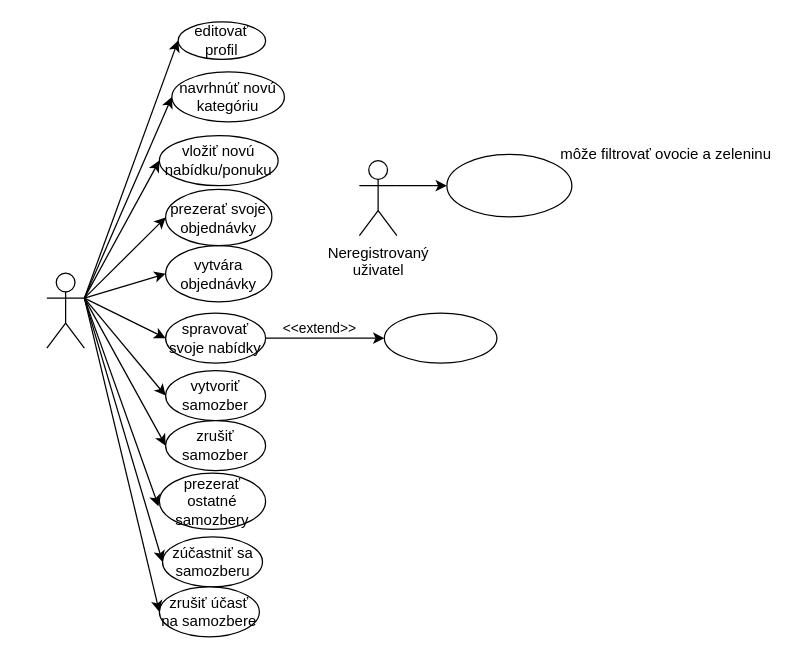
Image size: 806x659. Some labels were removed from this diagram. The centre of each missing label's shape, as x and y in pixels:
aktualizovať množstvo: [440,337]
Prezerať nabídky/ponuky: [509,185]
Registrovaný uživatel: [65,310]
